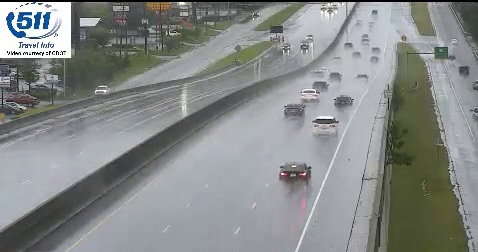car: (280, 163, 312, 182), (312, 116, 338, 136), (283, 103, 305, 117), (301, 89, 319, 103), (334, 95, 352, 108)
